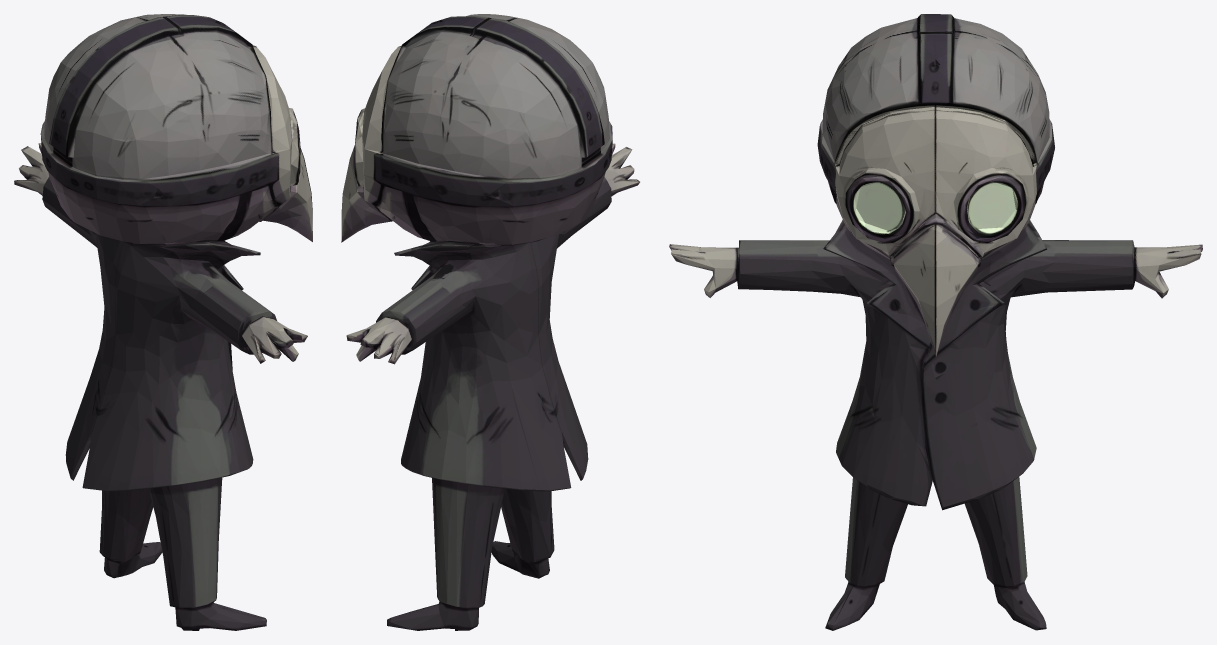
3 renders of one model, left to right at view 1: azimuth 30°, elevation 25°; view 2: azimuth 150°, elevation 25°; view 3: azimuth 270°, elevation 25°, orthographic.
Parts seen in each view (by area): view 1: tripo_node_81ffc8b3-d516-41f8-99db-8b8873866d99; view 2: tripo_node_81ffc8b3-d516-41f8-99db-8b8873866d99; view 3: tripo_node_81ffc8b3-d516-41f8-99db-8b8873866d99.
Part boxes in pixels (x1,y1,x2,y2): tripo_node_81ffc8b3-d516-41f8-99db-8b8873866d99: (14, 14, 312, 630); tripo_node_81ffc8b3-d516-41f8-99db-8b8873866d99: (341, 14, 639, 630); tripo_node_81ffc8b3-d516-41f8-99db-8b8873866d99: (669, 14, 1202, 630).
Bounding box in the file's own units: 0.464 × 1 × 0.837.
1 material, 1 textured.
